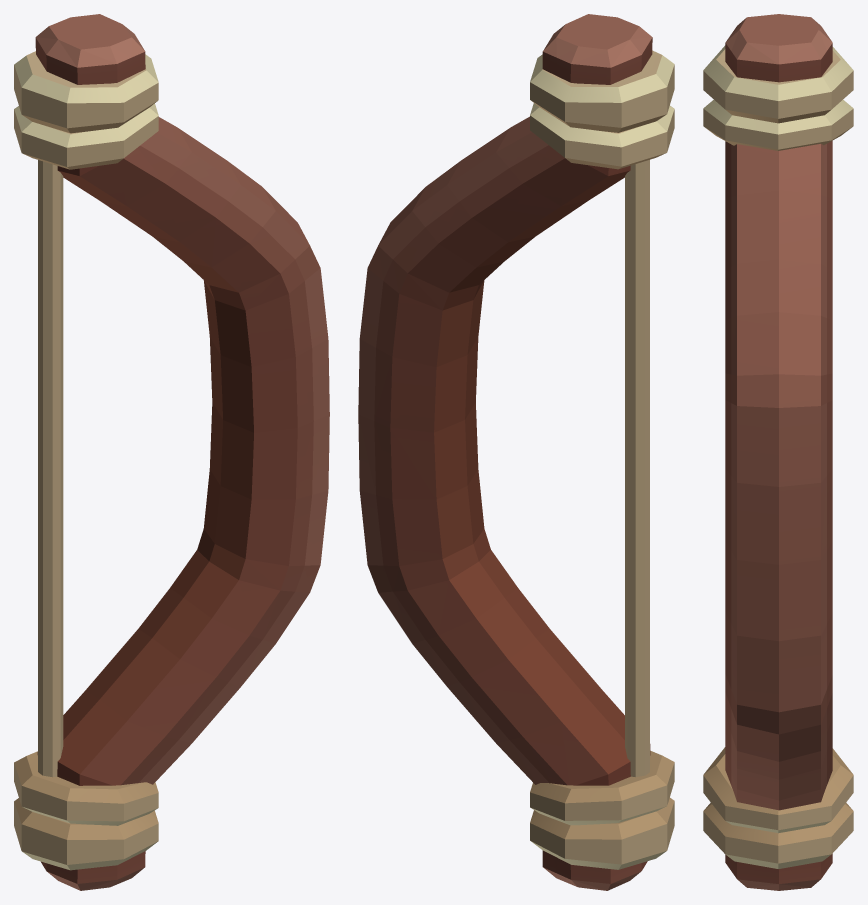
Rendered from bow_1.FBX.
3 renders of one model, left to right at view 1: azimuth 30°, elevation 25°; view 2: azimuth 150°, elevation 25°; view 3: azimuth 270°, elevation 25°, orthographic.
Parts seen in each view (by area): view 1: bow_1; view 2: bow_1; view 3: bow_1.
Part boxes in pixels (bbox=[...]): bow_1: bbox=[14, 14, 329, 890]; bow_1: bbox=[358, 14, 674, 890]; bow_1: bbox=[703, 14, 853, 890].
Size of the model in its own units: 33.16 by 89.56 by 14.45.
1 material, 1 textured.
